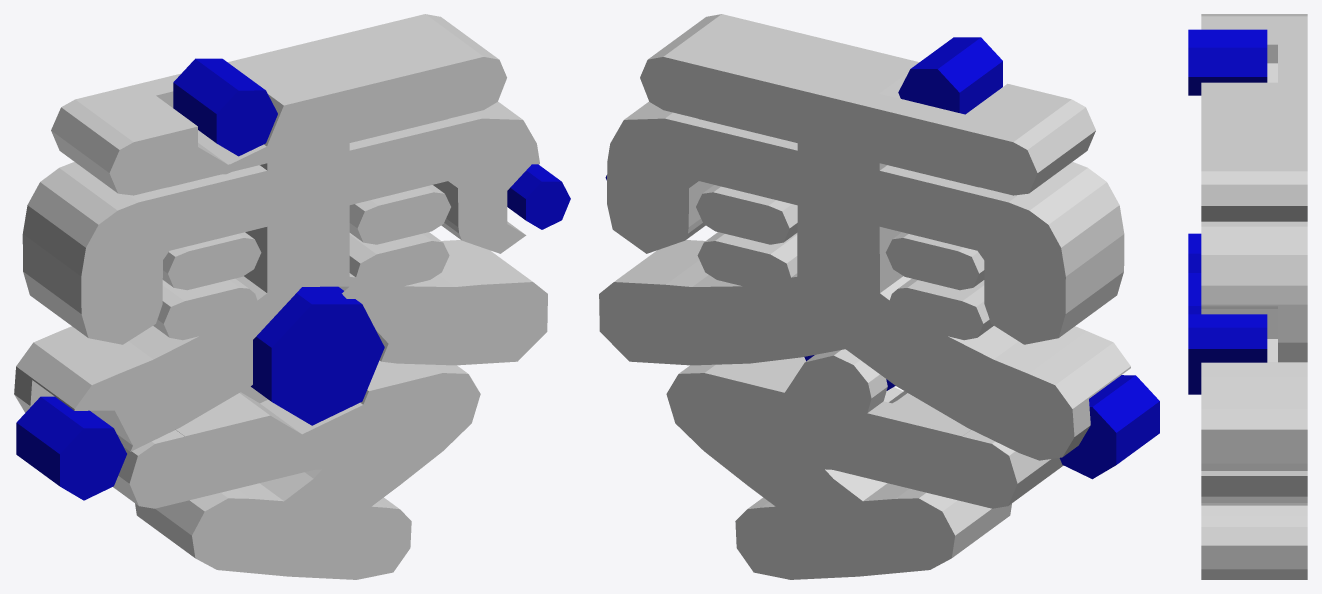
File: Ch_Lite_China_零_01.fbx
3 views of the same model, side by side, from view 1: azimuth 30°, elevation 25°; view 2: azimuth 150°, elevation 25°; view 3: azimuth 270°, elevation 25° (orthographic). The views are drawn at different scales.
Visible parts, largest first — view 1: sphere1; view 2: sphere1; view 3: sphere1.
Boxes of the visible parts, x1=… form: sphere1: x1=14, y1=14, x2=570, y2=579; sphere1: x1=599, y1=14, x2=1159, y2=579; sphere1: x1=1188, y1=14, x2=1307, y2=579.
Bounding box in the file's own units: 1.01 × 0.9928 × 0.2242.
